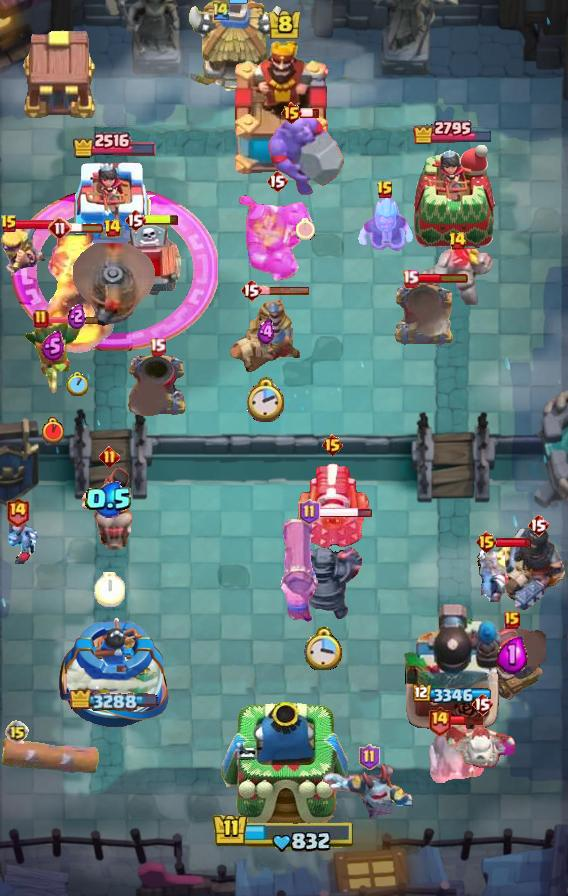archer-queen: (264, 110, 346, 198)
arrows: (1, 222, 48, 275)
battle-healer: (275, 519, 321, 623)
bomb: (18, 27, 98, 121)
clock: (212, 812, 356, 854)
dark-prince: (67, 243, 157, 329)
electro-dragon: (38, 228, 116, 356)
electro-spirit: (85, 482, 133, 519), (496, 635, 527, 674), (41, 331, 65, 361), (256, 319, 276, 345), (68, 303, 86, 330)
elite-barbarian: (78, 466, 140, 560)
elixir: (247, 377, 286, 424), (305, 626, 344, 669), (95, 573, 125, 607), (42, 417, 64, 444), (66, 372, 88, 396), (296, 218, 315, 240)
elixir-golem-mid: (114, 220, 184, 306)
elixir-golem-small: (321, 762, 417, 832)
emote: (319, 506, 374, 519), (10, 217, 61, 231), (415, 272, 469, 284), (259, 285, 311, 296), (46, 315, 100, 325), (144, 214, 180, 227), (69, 222, 105, 234), (496, 537, 533, 548), (449, 714, 485, 725), (300, 107, 320, 119), (228, 0, 248, 6)
goblin-barrel: (23, 321, 83, 397)
golem: (292, 462, 372, 554)
golemite: (284, 517, 362, 621)
inferno-dragon: (500, 525, 568, 617)
king-tower: (220, 702, 348, 827), (228, 41, 340, 181)
knight-evolution: (10, 187, 217, 351)
mini-pekka: (443, 721, 521, 771)
minion: (0, 737, 100, 775)
mortar: (354, 192, 416, 256)
mortar-evolution: (427, 718, 485, 786), (477, 544, 519, 602)
musketeer: (392, 282, 456, 348), (126, 351, 188, 419)
prince: (184, 0, 286, 96)
queen-tower: (54, 614, 173, 730), (410, 144, 496, 255), (69, 158, 159, 256)
ram-rider: (227, 294, 305, 374)
royal-delivery: (0, 518, 44, 564)
royal-giant-evolution: (478, 626, 546, 700)
royal-guardian: (238, 194, 316, 284)
selected: (71, 129, 157, 158), (412, 118, 494, 144), (70, 690, 158, 714), (414, 684, 495, 705)
text: (5, 497, 30, 528), (428, 704, 453, 735), (48, 216, 72, 240), (5, 720, 29, 744), (281, 101, 304, 125), (320, 433, 343, 457), (475, 530, 498, 554), (300, 499, 321, 525), (359, 744, 380, 770), (266, 169, 288, 193), (124, 208, 146, 232), (240, 278, 262, 302), (527, 513, 549, 537), (471, 692, 493, 716), (99, 446, 121, 467), (211, 0, 231, 20), (102, 218, 122, 238), (448, 231, 468, 251), (376, 180, 394, 200), (0, 214, 18, 234), (149, 337, 167, 356), (401, 269, 419, 287), (33, 309, 49, 329), (504, 611, 520, 629)
tower-bar: (403, 601, 503, 731)
valkyrie-evolution: (419, 243, 495, 305)
